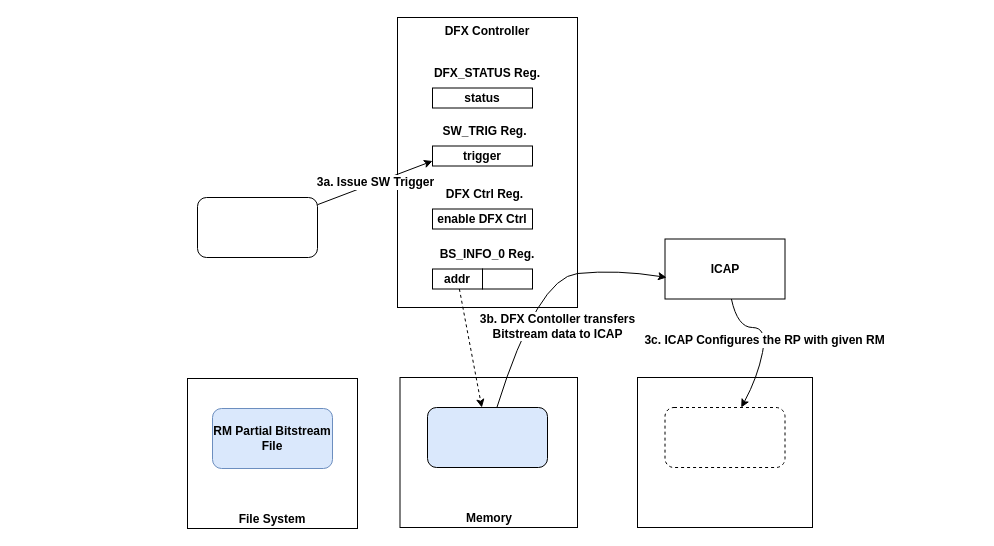
The diagram is 994 pixels wide and 546 high, and some of its shapes have lost their labels. The box of each missing label's shape, as (x1, y1, x2, y2) in pixels:
RM Partial Bitstream Memory Buffer: (426, 406, 548, 468)
RP: (636, 376, 812, 528)
size: (482, 268, 532, 289)
Software: (196, 196, 318, 258)
